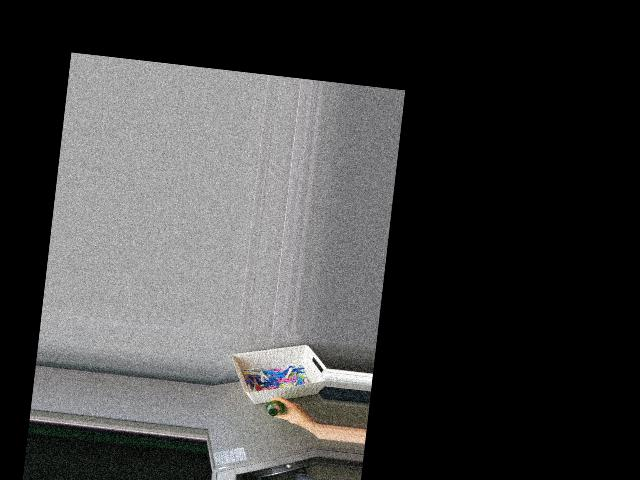beer: (264, 399, 286, 417)
